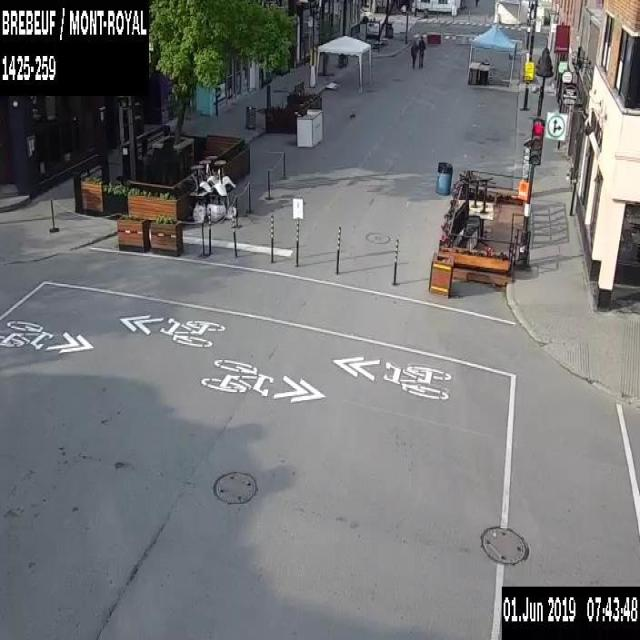pedestrian: (418, 34, 425, 66), (410, 36, 417, 67)
